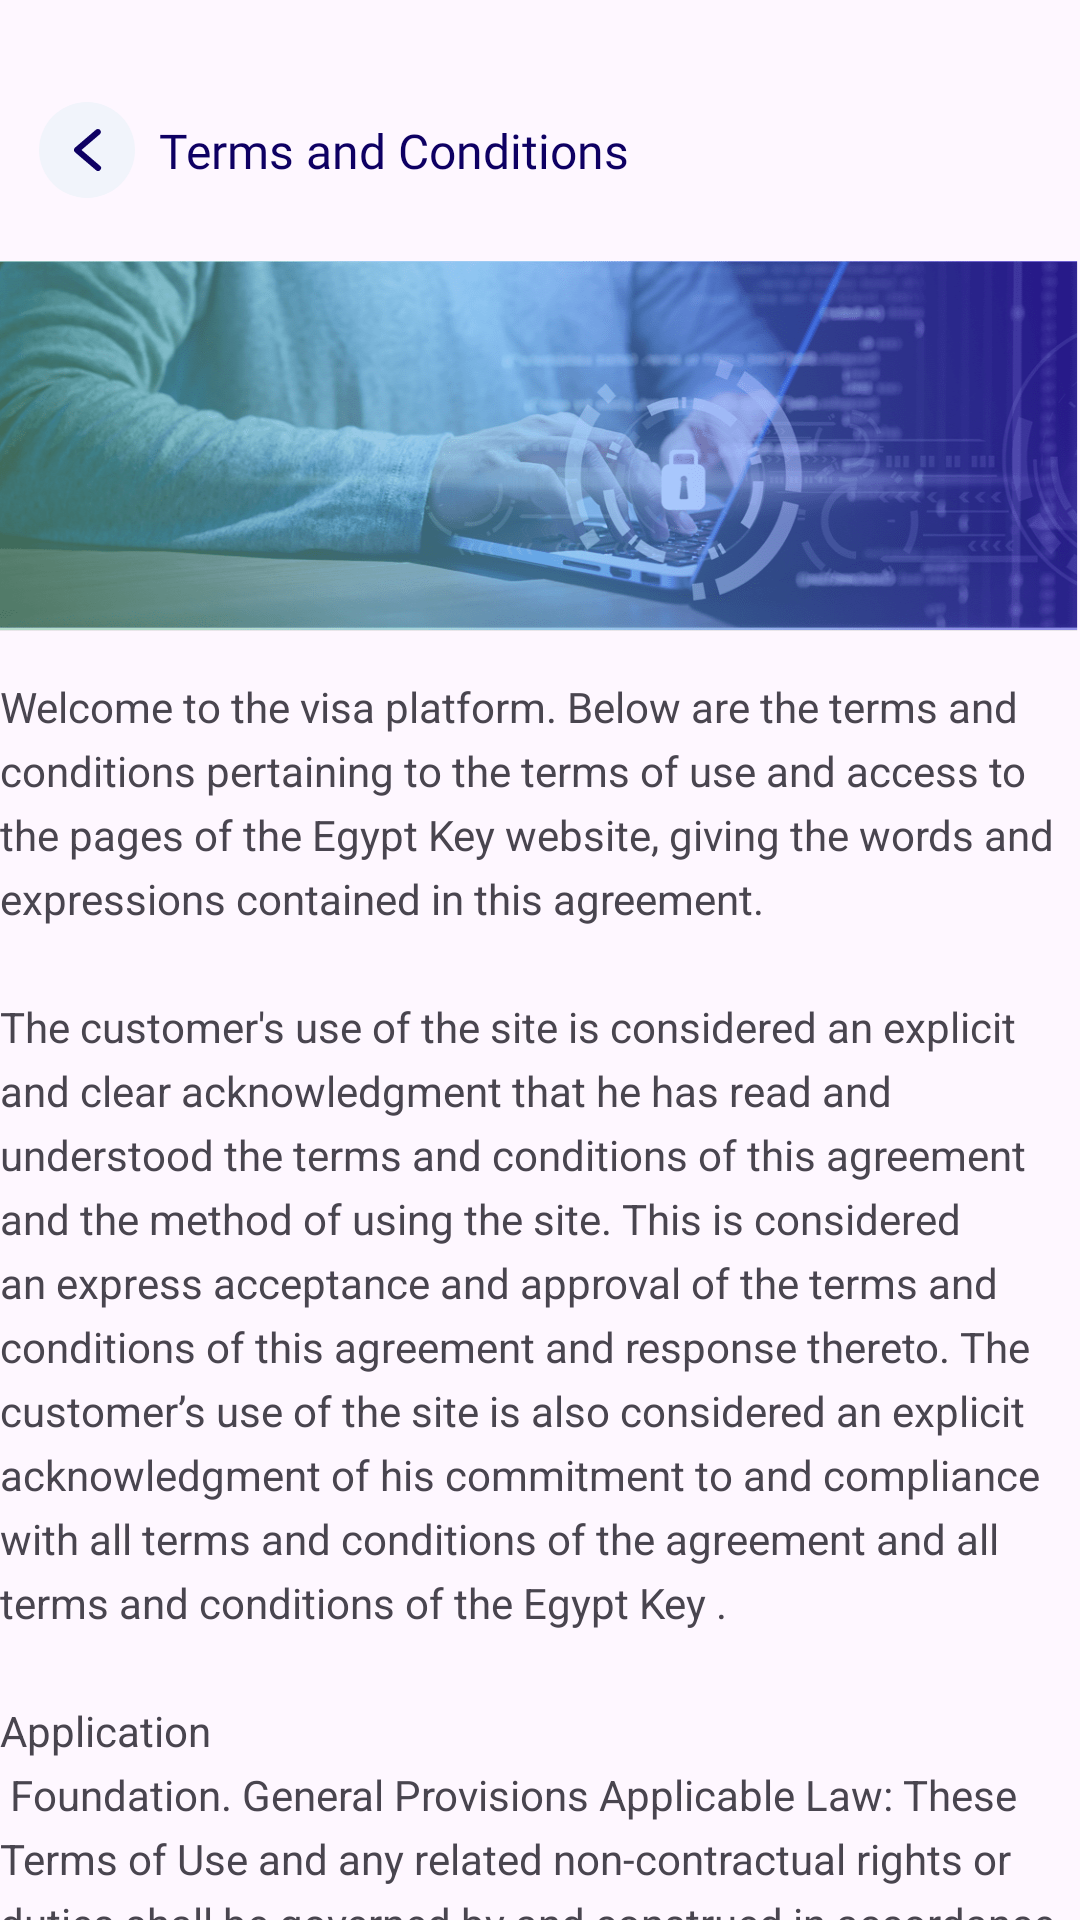

Named icons in this screenshot (1080px×1920px) and their centers, point (x, y):
arrow back: point (87, 150)
